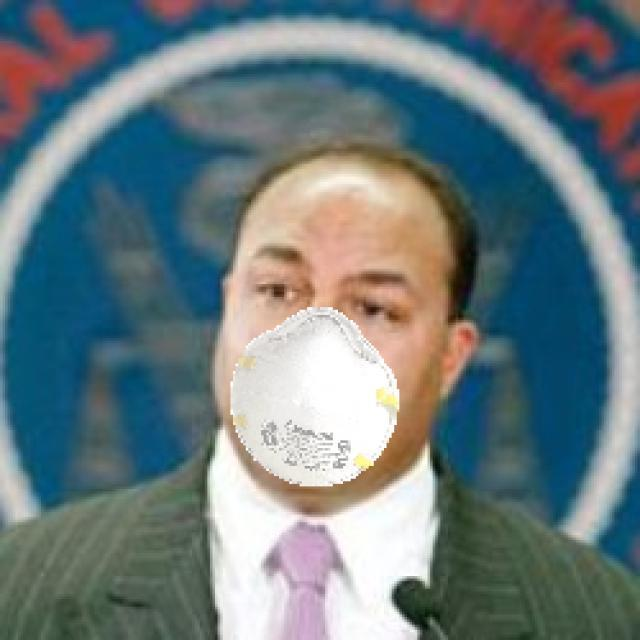n95: (218, 182, 447, 484)
